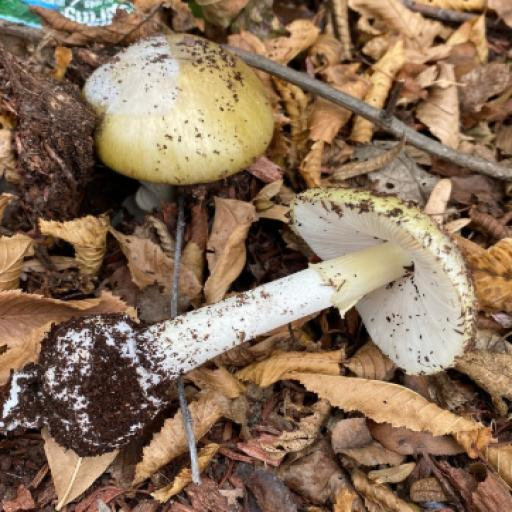mushroom: (0, 163, 488, 469), (32, 15, 279, 205)
